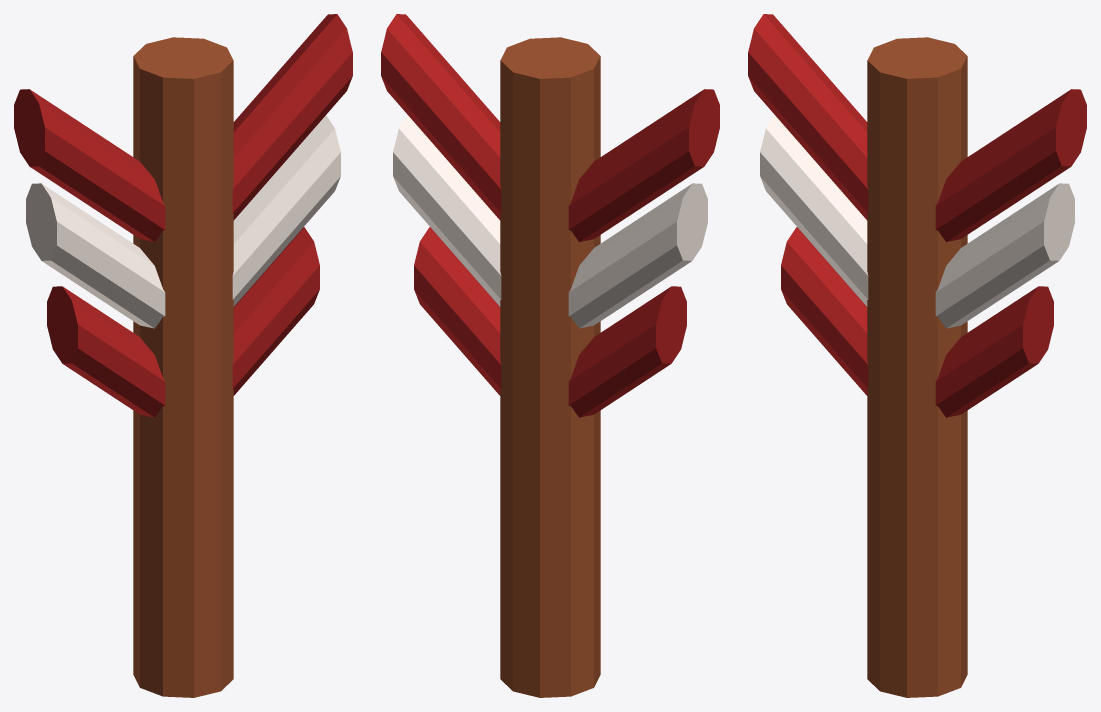
Rendered from Prop_Tribal_Totem_Timber_01.FBX.
3 renders of one model, left to right at view 1: azimuth 30°, elevation 25°; view 2: azimuth 150°, elevation 25°; view 3: azimuth 330°, elevation 25°, orthographic.
Parts seen in each view (by area): view 1: Prop_Tribal_Totem_Timber_01; view 2: Prop_Tribal_Totem_Timber_01; view 3: Prop_Tribal_Totem_Timber_01.
Part boxes in pixels (x1,y1,x2,y2): Prop_Tribal_Totem_Timber_01: (14, 14, 352, 697); Prop_Tribal_Totem_Timber_01: (381, 14, 719, 697); Prop_Tribal_Totem_Timber_01: (748, 14, 1086, 697).
Size of the model in its own units: 3642 by 7071 by 980.
